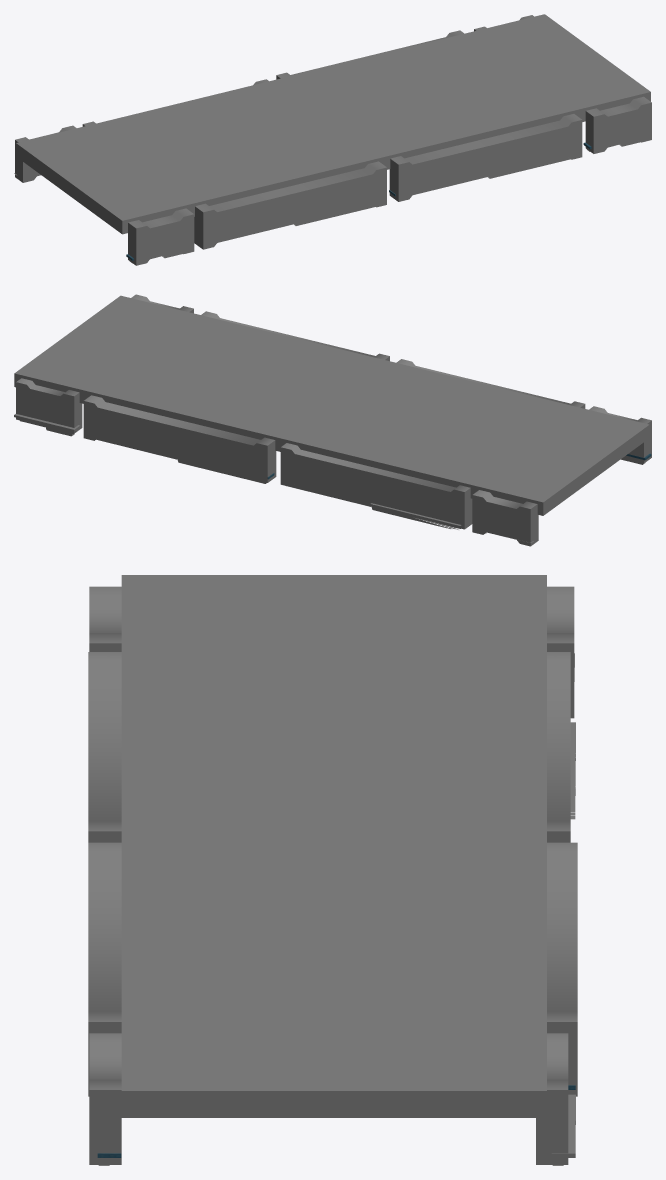
The model's file is PontAutour.fbx.
The picture shows the model from 3 angles, top to bottom: view 1: azimuth 30°, elevation 25°; view 2: azimuth 150°, elevation 25°; view 3: azimuth 270°, elevation 25°; orthographic projection. The views are drawn at different scales.
Visible parts, largest first — view 1: viga_hor110; view 2: viga_hor110; view 3: viga_hor110.
Boxes of the visible parts, x1,y1,x2,y2 form: viga_hor110: (14, 14, 651, 265); viga_hor110: (14, 294, 651, 546); viga_hor110: (88, 575, 577, 1165).
Size of the model in its own units: 8.76 by 0.6686 by 3.51.
